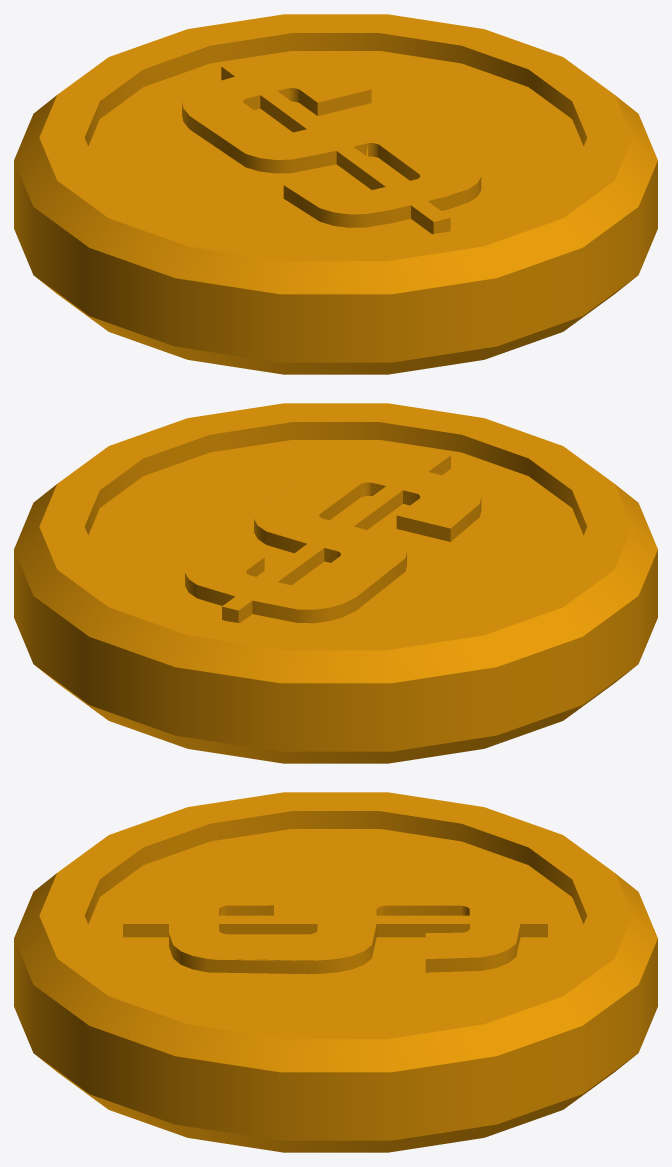
The model's file is coin_new.glb.
3 renders of one model, top to bottom at view 1: azimuth 30°, elevation 25°; view 2: azimuth 150°, elevation 25°; view 3: azimuth 270°, elevation 25°, orthographic.
Visible parts, largest first — view 1: Coin_New; view 2: Coin_New; view 3: Coin_New.
Part boxes in pixels (x1,y1,x2,y2): Coin_New: (14,14,657,374); Coin_New: (14,403,657,763); Coin_New: (14,792,657,1152).
Size of the model in its own units: 1.97 by 0.3892 by 2.
